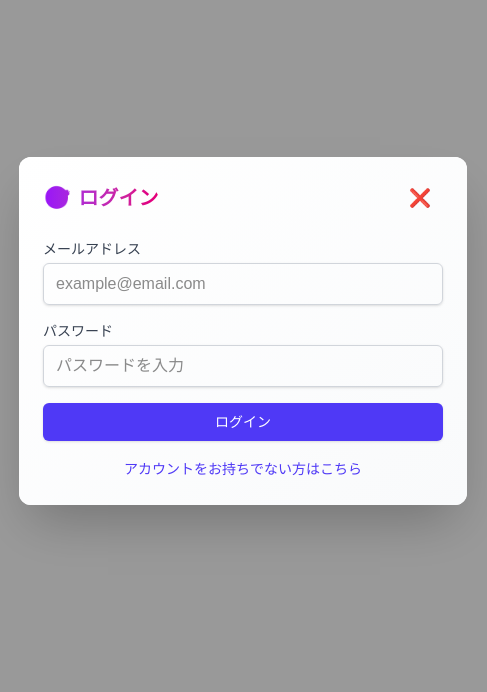
Test: SupabaseAuthModal › モード切り替え › 登録フォームに切り替えられる
Step 1. Click the button "アカウントをお持ちでない方はこちら" → coordinates (243, 469), box x1=124 y1=459 x2=362 y2=479
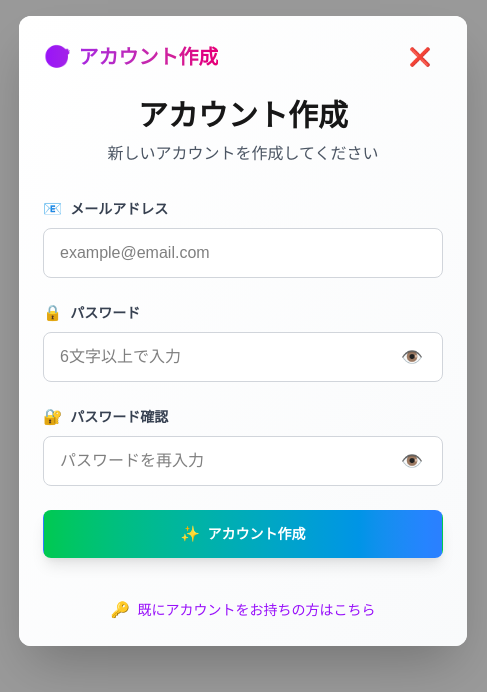
Now the heading "アカウント作成" is shown, box x1=138 y1=99 x2=348 y2=132
